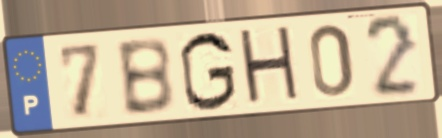0: (306, 21, 358, 101)
2: (362, 12, 428, 103)
7: (56, 40, 104, 123)
B: (112, 35, 178, 119)
G: (177, 29, 240, 114)
H: (235, 23, 305, 111)
